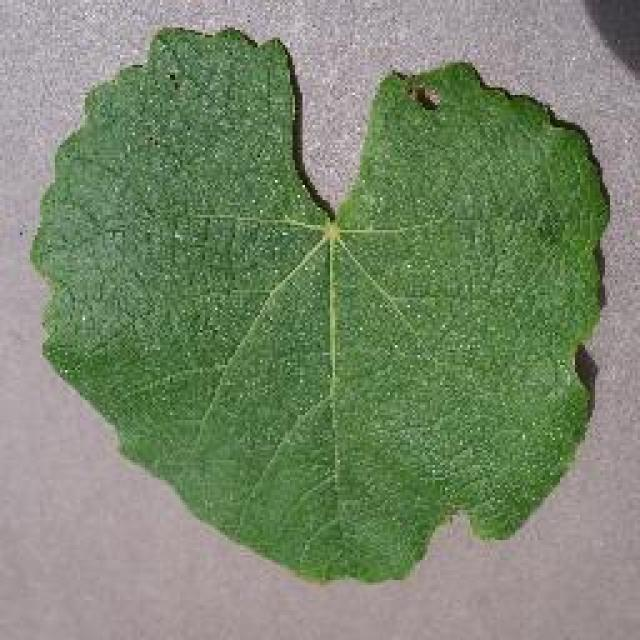Grape___healthy: (26, 22, 612, 589)
